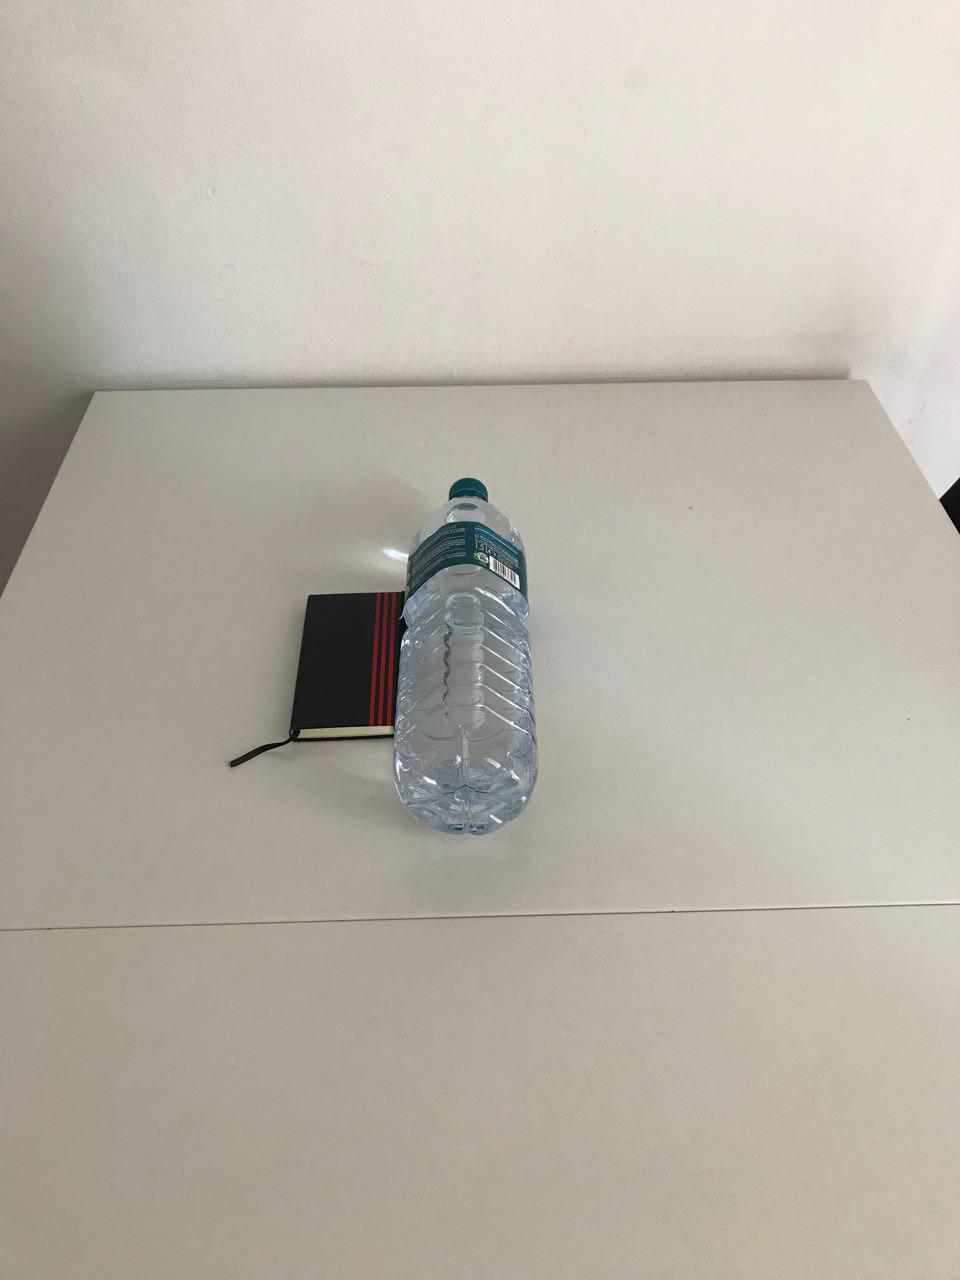san_bernardo: (391, 476, 541, 837)
